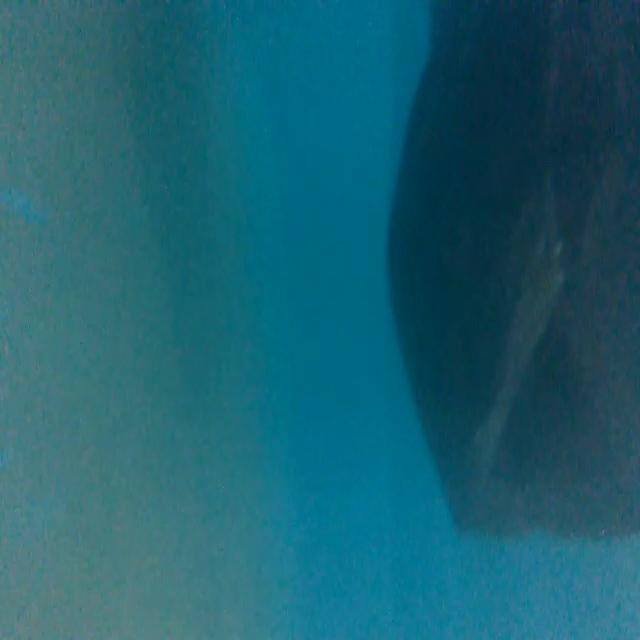plastic bags: (386, 6, 640, 542)
